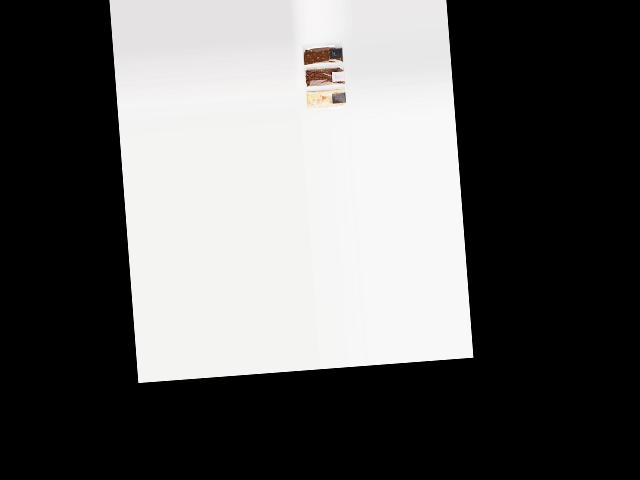chocolate: (298, 39, 342, 67)
